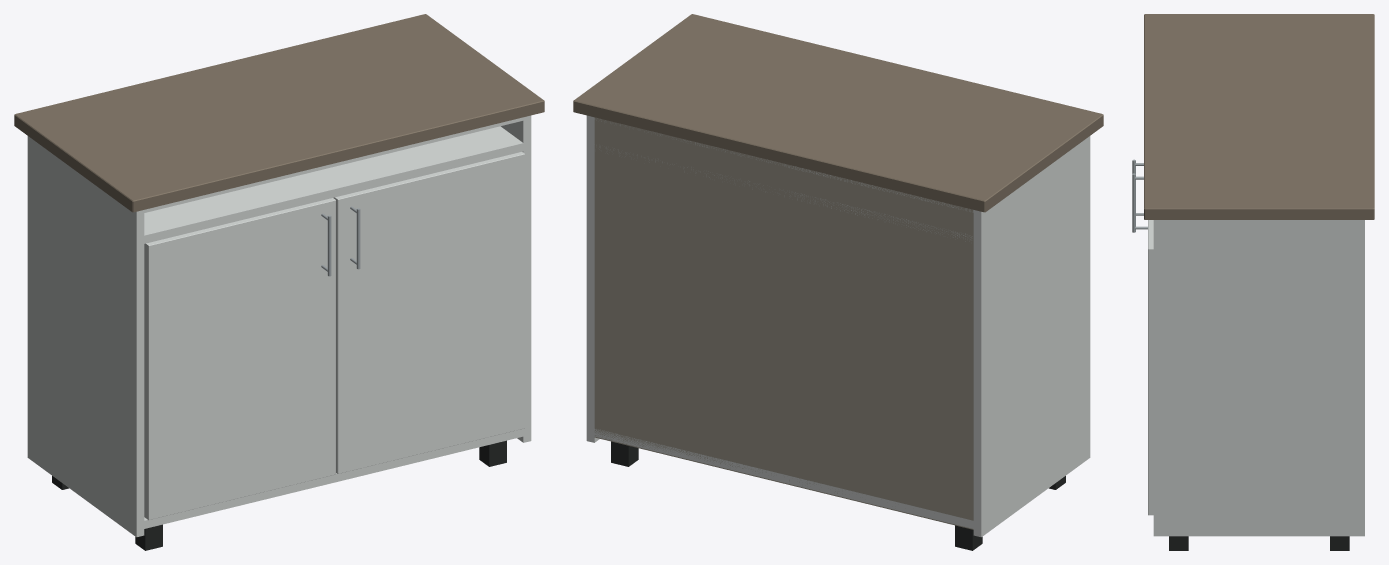
Rendered from TVCabinet.fbx.
3 views of the same model, side by side, from view 1: azimuth 30°, elevation 25°; view 2: azimuth 150°, elevation 25°; view 3: azimuth 270°, elevation 25° (orthographic). The views are drawn at different scales.
Visible parts, largest first — view 1: Countertop | thin wood slab with softened edges, Door | left flat panel, Door | right flat panel, Carcass | left side, Carcass | shelf below open cubby, Carcass | bottom board, Carcass | right side, Carcass | top support board; view 2: Carcass | inset rear board, Countertop | thin wood slab with softened edges, Carcass | left side, Carcass | bottom board, Carcass | right side; view 3: Carcass | right side, Countertop | thin wood slab with softened edges, Door | right flat panel.
Boxes of the visible parts, x1,y1,x2,y2 form: Countertop | thin wood slab with softened edges: (14,14,544,212); Door | left flat panel: (144,198,335,520); Door | right flat panel: (333,152,524,473); Carcass | left side: (27,136,144,537); Carcass | shelf below open cubby: (144,126,523,243); Carcass | bottom board: (144,429,523,528); Carcass | right side: (501,115,531,442); Carcass | top support board: (144,117,523,212); Carcass | inset rear board: (594,117,973,529); Countertop | thin wood slab with softened edges: (573,14,1103,212); Carcass | left side: (973,136,1090,537); Carcass | bottom board: (594,429,973,528); Carcass | right side: (586,115,599,442); Carcass | right side: (1153,220,1364,536); Countertop | thin wood slab with softened edges: (1144,14,1374,219); Door | right flat panel: (1148,220,1153,515).
Bounding box in the file's own units: 0.94 × 0.796 × 0.4937.
